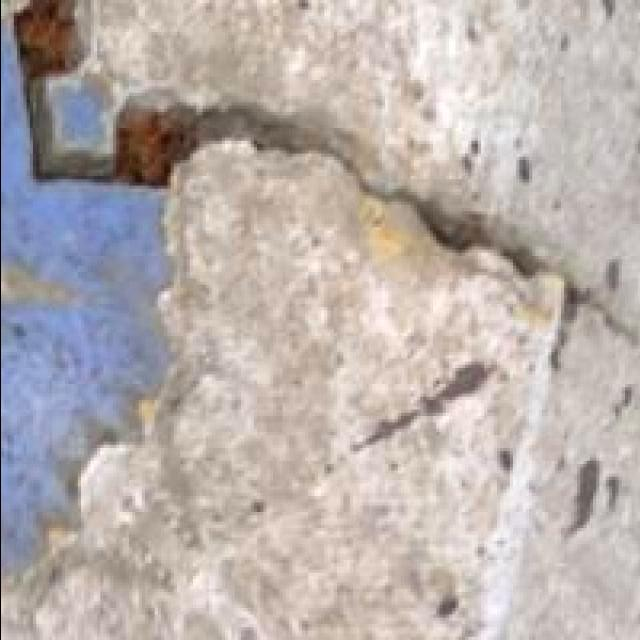SurfaceCrack: (20, 0, 590, 358)
